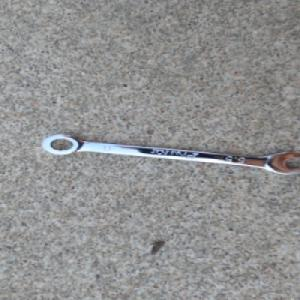Wrench: (40, 133, 300, 176)
